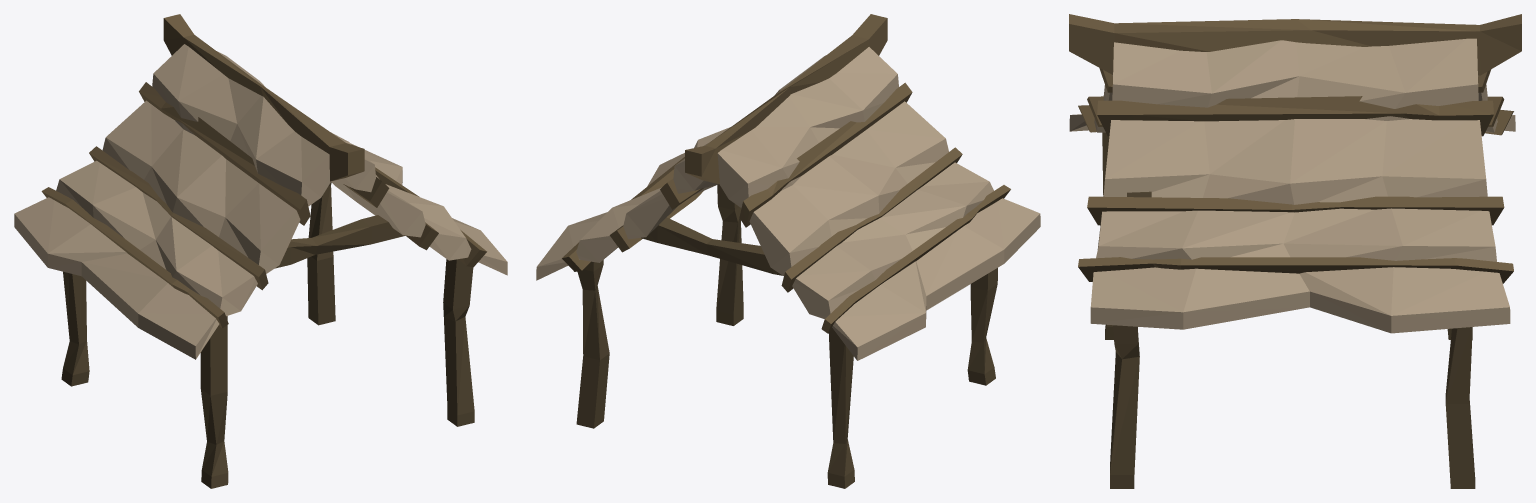
File: SM_Bld_Rickety_House_02.glb
3 views of the same model, side by side, from view 1: azimuth 30°, elevation 25°; view 2: azimuth 150°, elevation 25°; view 3: azimuth 270°, elevation 25° (orthographic). The views are drawn at different scales.
Parts seen in each view (by area): view 1: SM_Bld_Rickety_House_02_part00; view 2: SM_Bld_Rickety_House_02_part00; view 3: SM_Bld_Rickety_House_02_part00.
Part boxes in pixels (left/top/right/bottom): SM_Bld_Rickety_House_02_part00: left=14, top=14, right=507, bottom=488; SM_Bld_Rickety_House_02_part00: left=536, top=14, right=1040, bottom=488; SM_Bld_Rickety_House_02_part00: left=1069, top=14, right=1521, bottom=488.
Bounding box in the file's own units: 3.62 × 3.09 × 3.26.
1 material, 1 textured.
